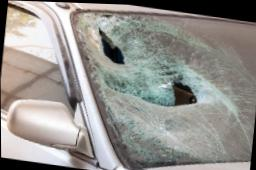Windshield: (79, 19, 255, 161)
